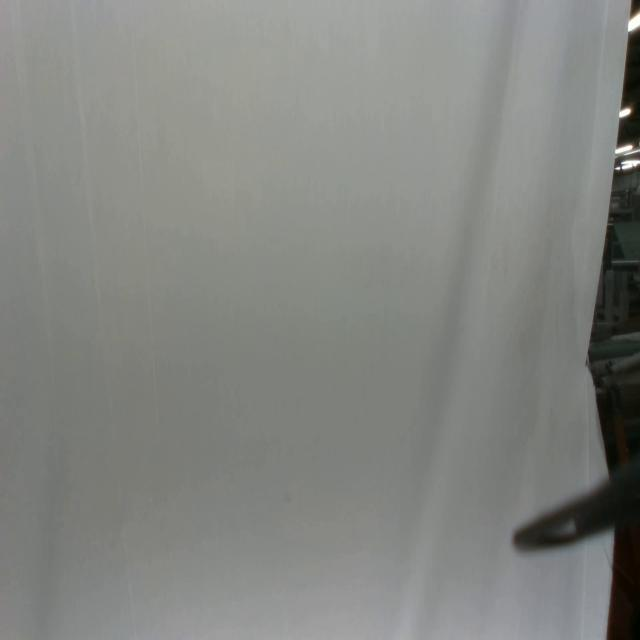crease: (71, 2, 138, 630), (9, 7, 53, 352), (131, 0, 163, 449)
